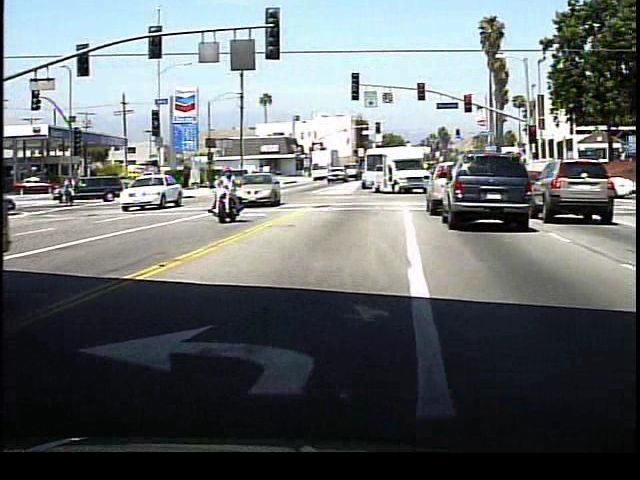person: (213, 171, 245, 225)
